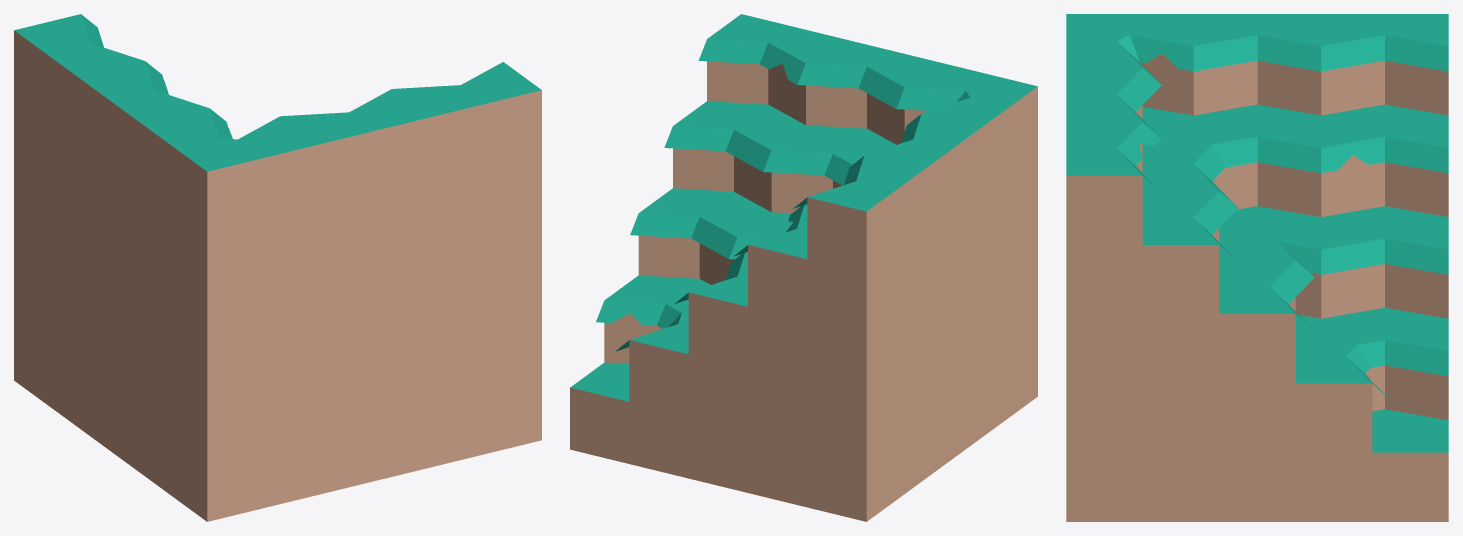
The model's file is cliff_stepsCornerInner_rock.glb.
3 views of the same model, side by side, from view 1: azimuth 30°, elevation 25°; view 2: azimuth 150°, elevation 25°; view 3: azimuth 270°, elevation 25° (orthographic). The views are drawn at different scales.
Visible parts, largest first — view 1: cliff_stepsCornerInner_rock; view 2: cliff_stepsCornerInner_rock; view 3: cliff_stepsCornerInner_rock.
Part boxes in pixels (bbox=[...]): cliff_stepsCornerInner_rock: bbox=[14, 14, 541, 521]; cliff_stepsCornerInner_rock: bbox=[570, 14, 1037, 521]; cliff_stepsCornerInner_rock: bbox=[1066, 14, 1448, 521].
Bounding box in the file's own units: 1.2 × 1.2 × 1.2.
